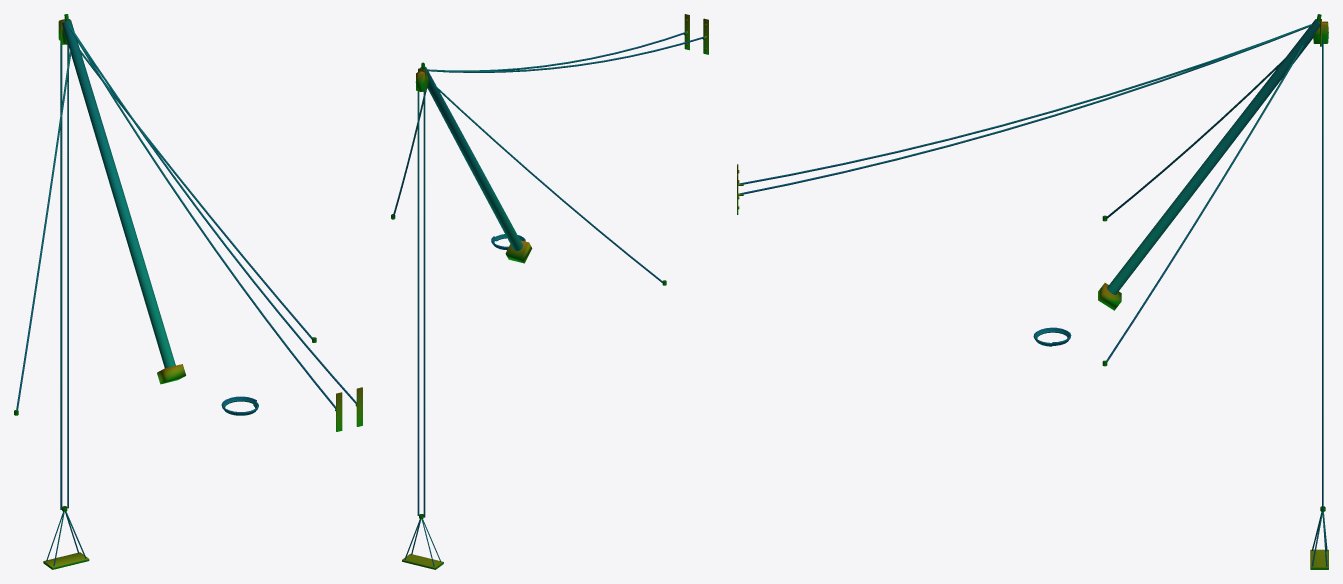
The model's file is liss_hoist.glb.
3 views of the same model, side by side, from view 1: azimuth 30°, elevation 25°; view 2: azimuth 150°, elevation 25°; view 3: azimuth 270°, elevation 25° (orthographic). The views are drawn at different scales.
Parts seen in each view (by area): view 1: liss_hoist; view 2: liss_hoist; view 3: liss_hoist.
Boxes of the visible parts, x1=… form: liss_hoist: x1=14, y1=14, x2=362, y2=569; liss_hoist: x1=391, y1=14, x2=708, y2=569; liss_hoist: x1=737, y1=14, x2=1328, y2=569.
Size of what is drawn, in the model's own units: 5.26 by 9.15 by 8.97.
